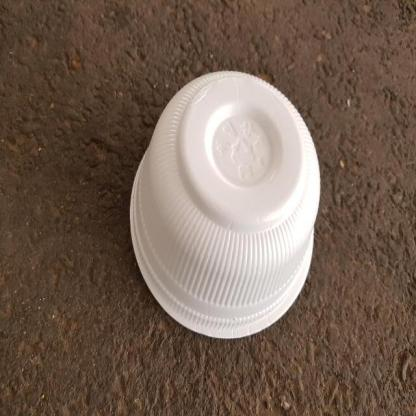Glass Cup: (130, 68, 321, 341), (130, 71, 320, 339)
